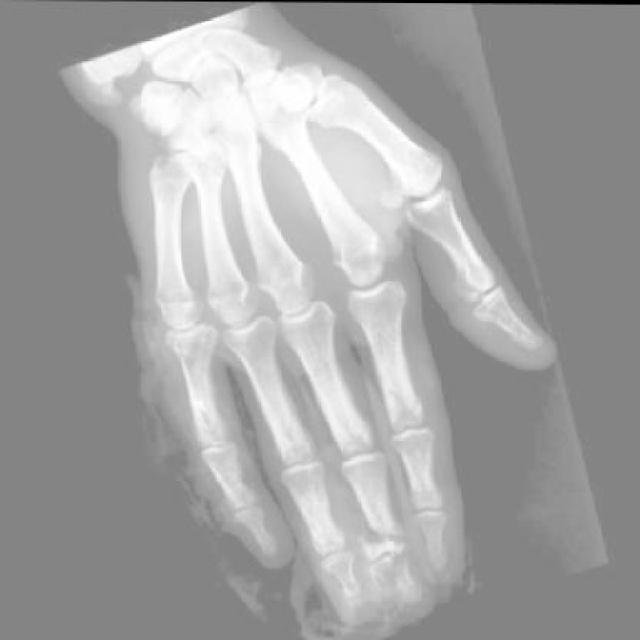bone: (367, 540, 424, 609)
